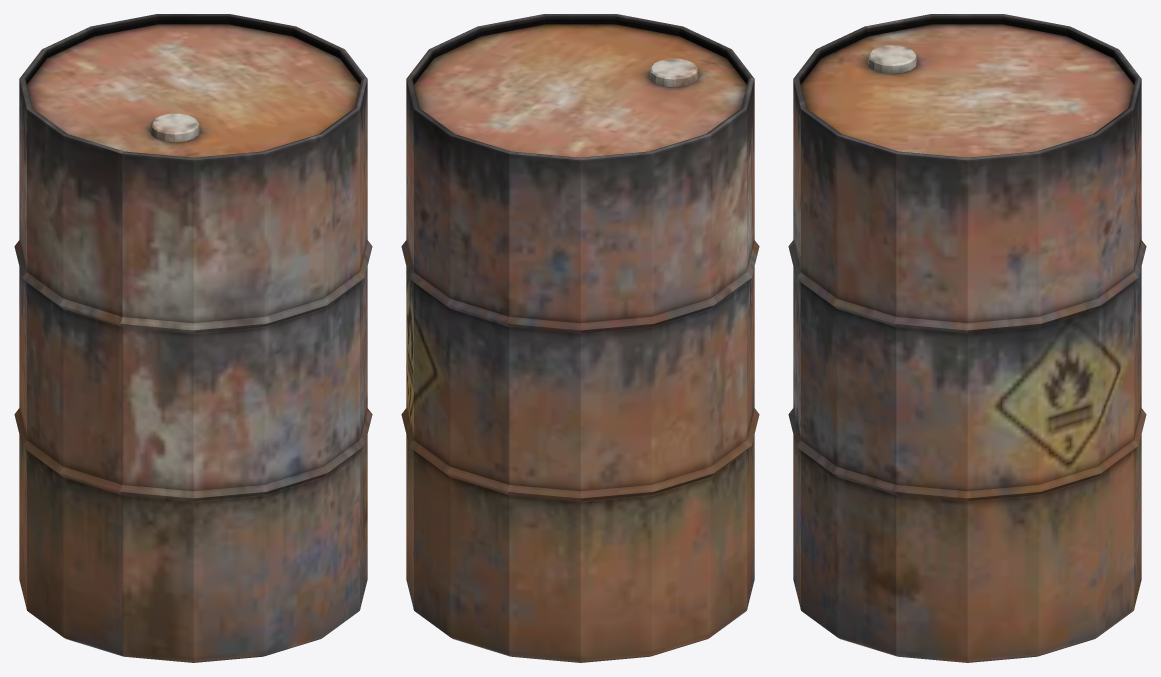
The model's file is bidon.glb.
3 views of the same model, side by side, from view 1: azimuth 30°, elevation 25°; view 2: azimuth 150°, elevation 25°; view 3: azimuth 270°, elevation 25° (orthographic).
Parts seen in each view (by area): view 1: Petrol Drum; view 2: Petrol Drum; view 3: Petrol Drum.
Part boxes in pixels (box(x1,y1,x2,y2)): Petrol Drum: box(14, 14, 372, 662); Petrol Drum: box(401, 14, 759, 662); Petrol Drum: box(788, 14, 1146, 662).
Bounding box in the file's own units: 1.79 × 2.82 × 1.8.
1 material, 1 textured.
